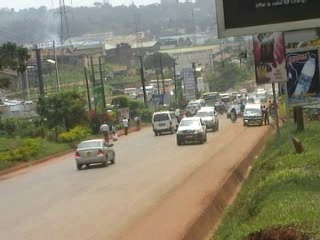Car: (74, 136, 117, 170), (194, 104, 220, 132), (182, 101, 204, 119), (225, 101, 243, 119), (212, 98, 228, 114)
Motorcycle: (228, 105, 237, 124)
